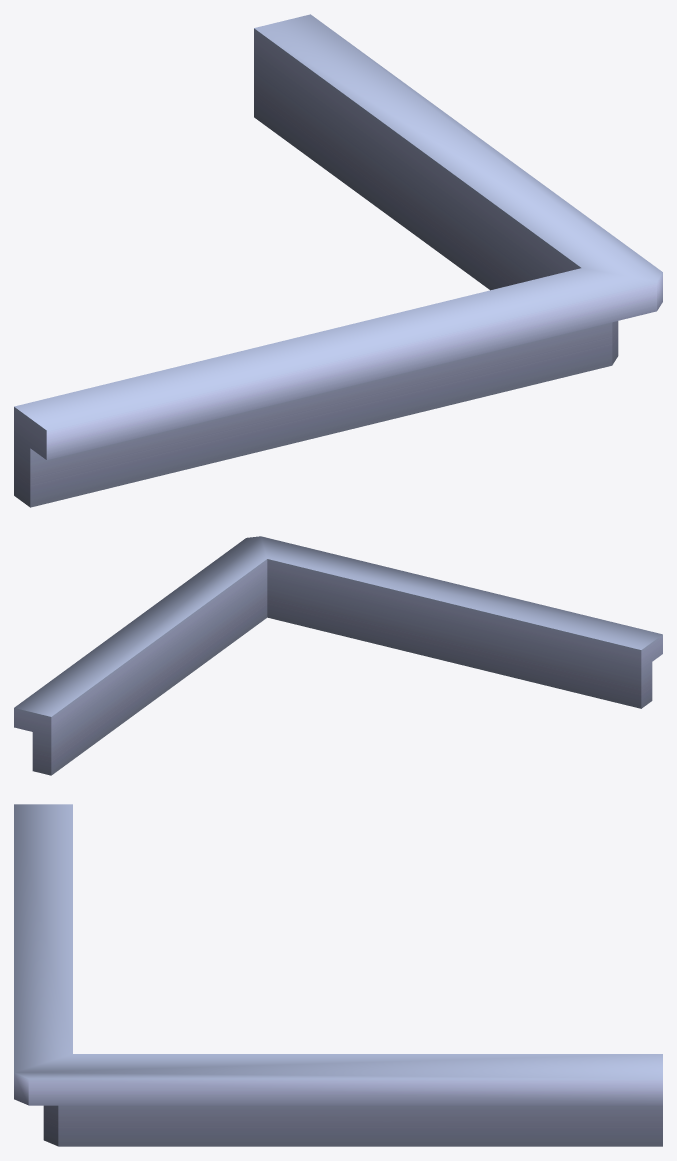
File: kenney-building-border-corner.glb
3 renders of one model, top to bottom at view 1: azimuth 30°, elevation 25°; view 2: azimuth 150°, elevation 25°; view 3: azimuth 270°, elevation 25°, orthographic. The views are drawn at different scales.
Visible parts, largest first — view 1: border-corner; view 2: border-corner; view 3: border-corner.
Boxes of the visible parts, left/top/right/bottom form: border-corner: left=14, top=14, right=662, bottom=507; border-corner: left=14, top=536, right=662, bottom=775; border-corner: left=14, top=804, right=662, bottom=1146.
Size of the model in its own units: 2.2 by 0.3 by 2.2.
1 material, 1 textured.
